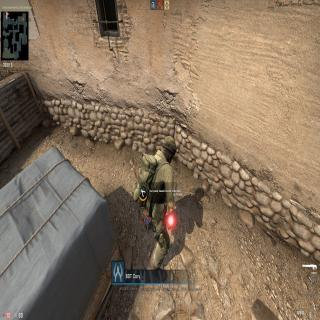CT-Head: (162, 130, 178, 167)
